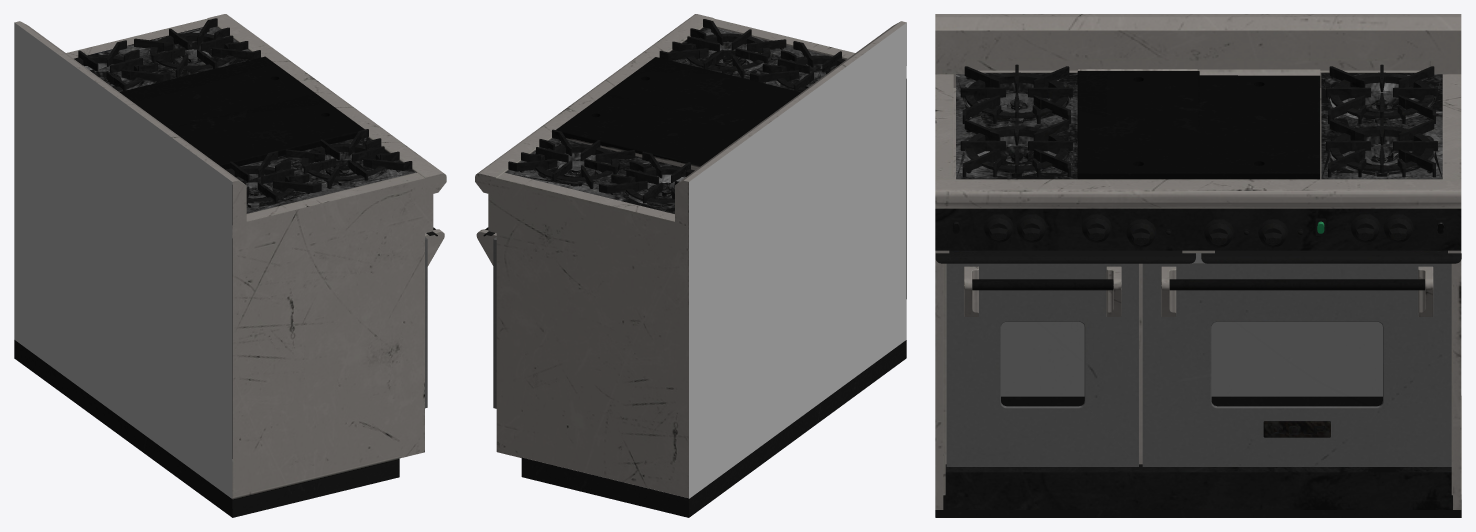
The model's file is obj_double_kitchen_gas_9b4ac1.glb.
The picture shows the model from 3 angles, left to right: view 1: azimuth 30°, elevation 25°; view 2: azimuth 150°, elevation 25°; view 3: azimuth 270°, elevation 25°; orthographic projection. The views are drawn at different scales.
Visible parts, largest first — view 1: obj_double_kitchen_gas_9b4ac1; view 2: obj_double_kitchen_gas_9b4ac1; view 3: obj_double_kitchen_gas_9b4ac1.
Part boxes in pixels (x1=…): obj_double_kitchen_gas_9b4ac1: x1=14, y1=14, x2=446, y2=517; obj_double_kitchen_gas_9b4ac1: x1=475, y1=14, x2=906, y2=517; obj_double_kitchen_gas_9b4ac1: x1=935, y1=14, x2=1461, y2=517.
Bounding box in the file's own units: 0.629 × 0.9 × 1.06.
Materials: 3 (2 with a texture image).
